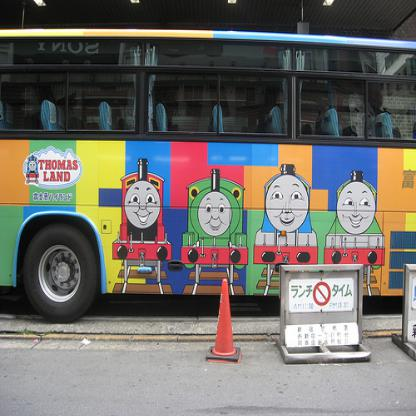bus: (0, 26, 415, 322)
